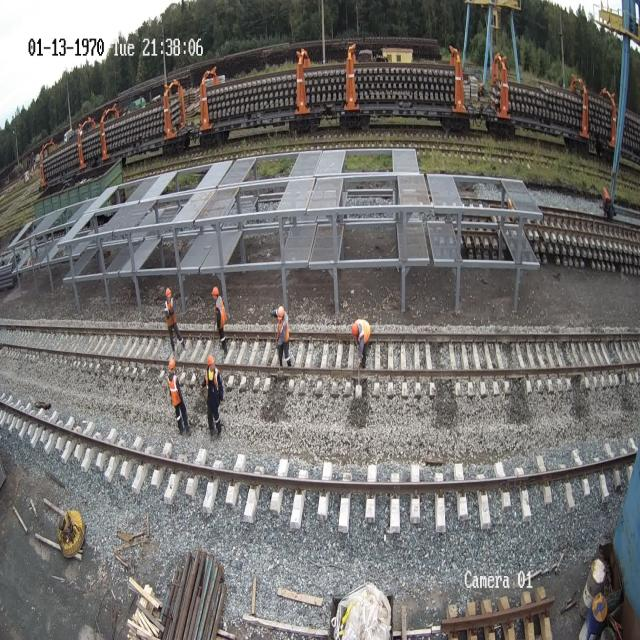Helmet: (277, 306, 284, 318), (352, 322, 358, 336), (169, 358, 175, 370), (208, 355, 215, 365), (212, 286, 218, 296), (165, 288, 171, 297)
Person: (167, 358, 191, 436), (202, 355, 224, 437), (270, 306, 292, 368), (163, 288, 185, 350), (211, 286, 228, 357), (352, 318, 370, 368)
